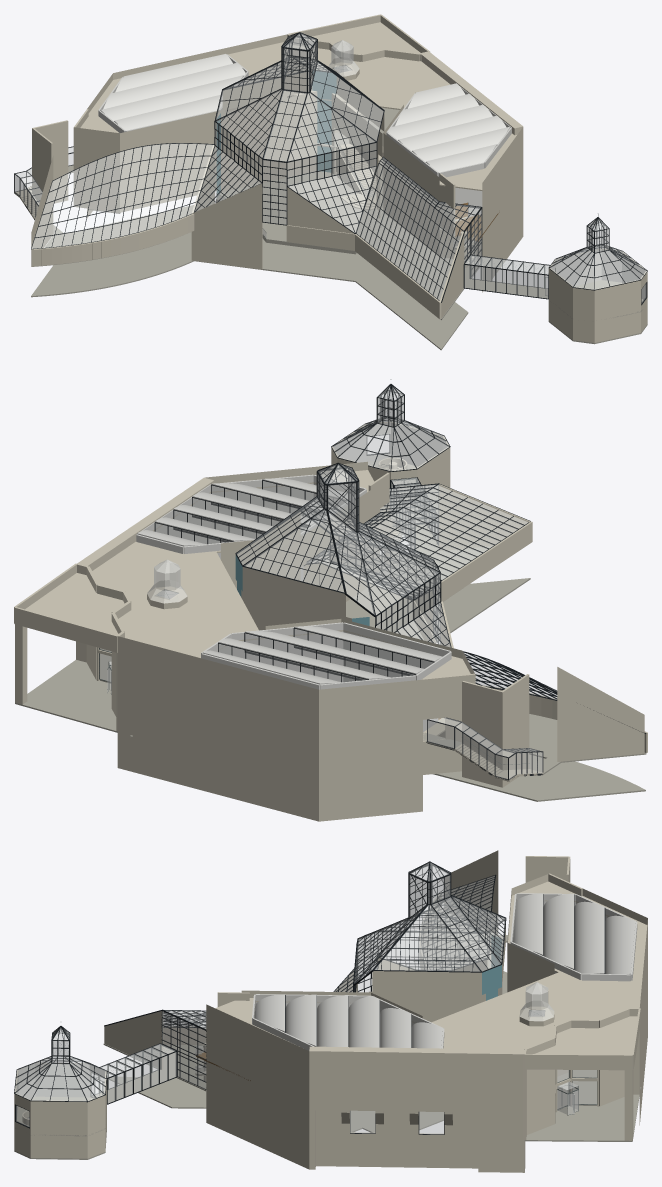
File: MUDAM_R27_GALERI_NIS_REVIZYON_v001_preview.glb
3 views of the same model, one above another, from view 1: azimuth 30°, elevation 25°; view 2: azimuth 150°, elevation 25°; view 3: azimuth 270°, elevation 25° (orthographic). The views are drawn at different scales.
Visible parts, largest first — view 1: P05_ZONE_LM1_GALLERIES_FOYER, P05_GALLERY_HALL_WEST1, P05_MAIN_ATRIUM_BASE_3, P05_MAIN_ROOF_DECK, R07_STAIRWELL_STONE_NORTH, P05_FRONT_0, P05_FLOOR_L00_GH, P05_GALLERY_HALL_EAST1, P05_GALLERY_HALL_WEST2, P05_FLOOR_L00_EAST_GARDEN, R17_WALL_0, P05_FLOOR_L00_WEST_CAFE (+34 smaller); view 2: P05_FRONT_9, P05_FRONT_10, P05_MAIN_ROOF_DECK, P05_ZONE_LM1_GALLERIES_FOYER, P05_WEST_END, P07_CANOPY_PAVING_DISPLAY, R14_INNER_WALL_B, P05_GALLERY_HALL_EAST1, R11_STONE_END, P07_CANOPY_SLAB_ENVELOPE, P05_FLOOR_L00_EAST_GARDEN, P06_HIGH_EAVE_UPSTAND_3 (+32 smaller); view 3: R27_CONTINUOUS_HEAD, P05_FRONT_0, P05_MAIN_ROOF_DECK, R17_WALL_6, P07_CANOPY_PAVING_DISPLAY, R27_END_PIER, P06_HIGH_EAVE_UPSTAND_5, P07_CANOPY_SLAB_ENVELOPE, P05_WEST_END, R24_SHELL_W_02, R11_STONE_END, R24_SHELL_W_01 (+36 smaller).
Boxes of the visible parts, bbox=[...] form: P05_ZONE_LM1_GALLERIES_FOYER: bbox=[31, 232, 468, 350]; P05_GALLERY_HALL_WEST1: bbox=[120, 110, 224, 212]; P05_MAIN_ATRIUM_BASE_3: bbox=[221, 91, 317, 191]; P05_MAIN_ROOF_DECK: bbox=[75, 42, 522, 190]; R07_STAIRWELL_STONE_NORTH: bbox=[191, 183, 262, 269]; P05_FRONT_0: bbox=[482, 127, 523, 292]; P05_FLOOR_L00_GH: bbox=[216, 172, 383, 251]; P05_GALLERY_HALL_EAST1: bbox=[383, 133, 439, 256]; P05_GALLERY_HALL_WEST2: bbox=[73, 127, 119, 212]; P05_FLOOR_L00_EAST_GARDEN: bbox=[357, 213, 482, 319]; R17_WALL_0: bbox=[594, 279, 640, 342]; P05_FLOOR_L00_WEST_CAFE: bbox=[31, 200, 215, 266]; P05_FRONT_9: bbox=[117, 636, 318, 821]; P05_FRONT_10: bbox=[319, 679, 422, 821]; P05_MAIN_ROOF_DECK: bbox=[92, 470, 475, 699]; P05_ZONE_LM1_GALLERIES_FOYER: bbox=[433, 578, 645, 801]; P05_WEST_END: bbox=[557, 667, 644, 761]; P07_CANOPY_PAVING_DISPLAY: bbox=[15, 660, 117, 732]; R14_INNER_WALL_B: bbox=[462, 681, 503, 787]; P05_GALLERY_HALL_EAST1: bbox=[303, 484, 379, 601]; R11_STONE_END: bbox=[439, 484, 530, 550]; P07_CANOPY_SLAB_ENVELOPE: bbox=[25, 573, 124, 635]; P05_FLOOR_L00_EAST_GARDEN: bbox=[346, 546, 492, 623]; P06_HIGH_EAVE_UPSTAND_3: bbox=[242, 567, 345, 618]; R27_CONTINUOUS_HEAD: bbox=[309, 1046, 524, 1113]; P05_FRONT_0: bbox=[206, 1004, 309, 1169]; P05_MAIN_ROOF_DECK: bbox=[207, 881, 647, 1062]; R17_WALL_6: bbox=[30, 1100, 87, 1158]; P07_CANOPY_PAVING_DISPLAY: bbox=[524, 1094, 639, 1141]; R27_END_PIER: bbox=[478, 1112, 525, 1172]; P06_HIGH_EAVE_UPSTAND_5: bbox=[372, 971, 481, 994]; P07_CANOPY_SLAB_ENVELOPE: bbox=[535, 1016, 637, 1054]; P05_WEST_END: bbox=[444, 850, 498, 935]; R24_SHELL_W_02: bbox=[574, 901, 604, 973]; R11_STONE_END: bbox=[104, 1011, 163, 1069]; R24_SHELL_W_01: bbox=[543, 893, 573, 969].
Size of the model in its own units: 80.45 by 35.94 by 93.32.
